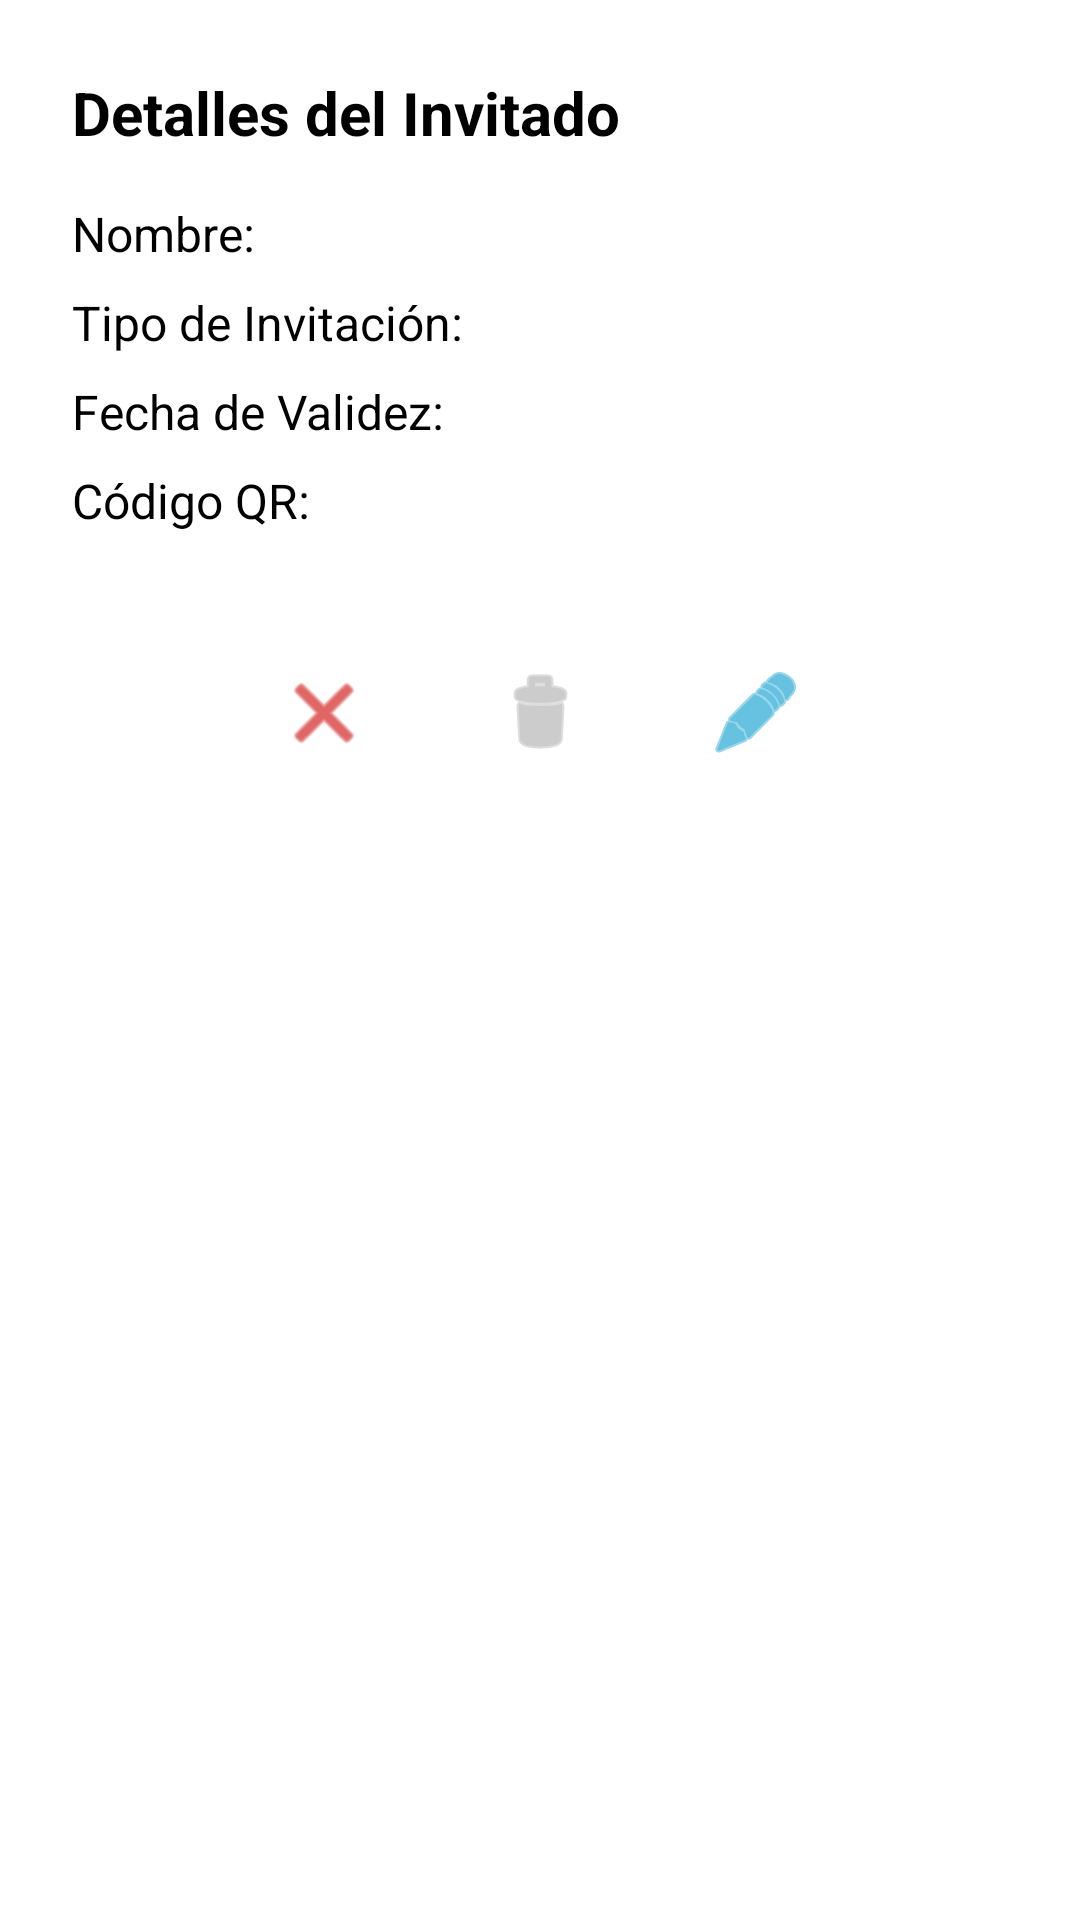

Icons on this 1080 × 1920 Android screen, each with its box as (left=x1, top=y1, right=x2, bottom=y2):
Cancelar QR: (left=294, top=683, right=354, bottom=743)
Editar Invitación: (left=715, top=672, right=796, bottom=753)
